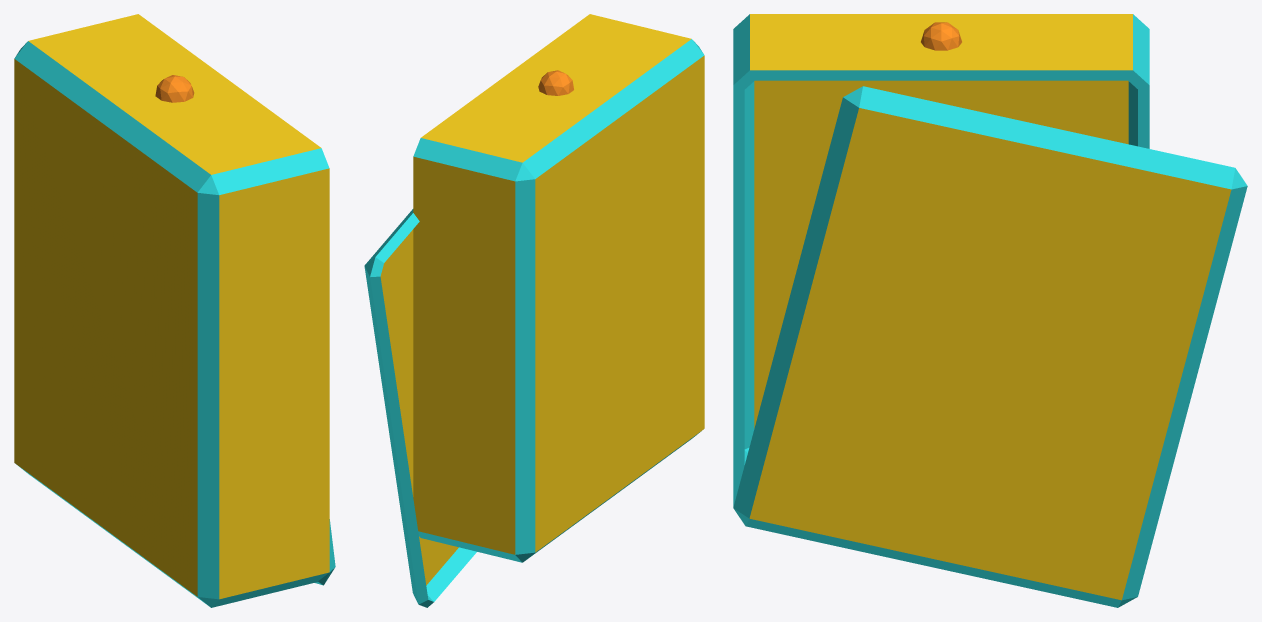
File: Breaker_Box_Busted.fbx
3 views of the same model, side by side, from view 1: azimuth 30°, elevation 25°; view 2: azimuth 150°, elevation 25°; view 3: azimuth 270°, elevation 25° (orthographic). The views are drawn at different scales.
Parts seen in each view (by area): view 1: Breaker_Box, Icosphere; view 2: Breaker_Box, Breaker_Door, Icosphere; view 3: Breaker_Door, Breaker_Box, Icosphere.
Part boxes in pixels (x1,y1,x2,y2): Breaker_Box: [14, 14, 329, 607]; Icosphere: [155, 75, 194, 102]; Breaker_Box: [413, 14, 704, 562]; Breaker_Door: [364, 209, 476, 607]; Icosphere: [538, 70, 573, 95]; Breaker_Door: [733, 86, 1247, 607]; Breaker_Box: [733, 14, 1149, 506]; Icosphere: [921, 22, 961, 50].
Bounding box in the file's own units: 40 × 147 × 124.
